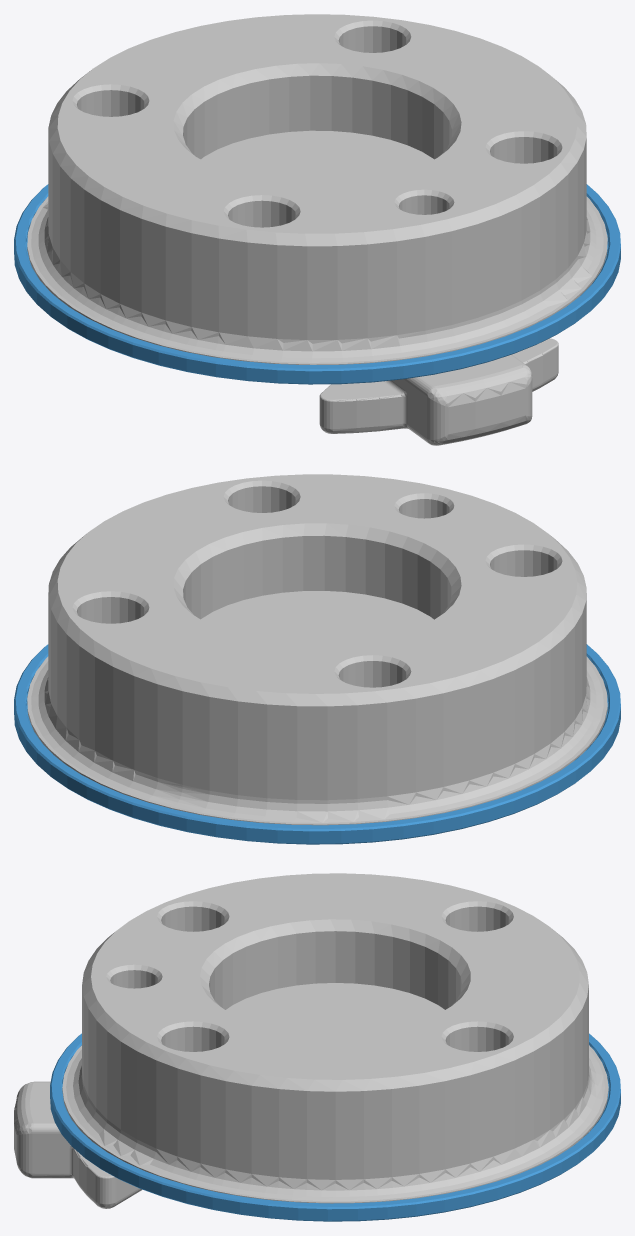
The model's file is HEX_E_H_QC_v3_adapter.dae.
The picture shows the model from 3 angles, top to bottom: view 1: azimuth 30°, elevation 25°; view 2: azimuth 150°, elevation 25°; view 3: azimuth 270°, elevation 25°; orthographic projection. The views are drawn at different scales.
Parts seen in each view (by area): view 1: node1, node0, node2; view 2: node1, node0; view 3: node1, node0, node2.
Boxes of the visible parts, x1,y1,x2,y2 form: node1: (27, 14, 607, 364); node0: (14, 184, 620, 384); node2: (319, 338, 558, 445); node1: (27, 474, 607, 825); node0: (14, 644, 620, 844); node1: (62, 873, 608, 1203); node0: (50, 1033, 620, 1221); node2: (14, 1081, 141, 1208).
Size of the model in its own units: 0.071 by 0.0755 by 0.0248.
